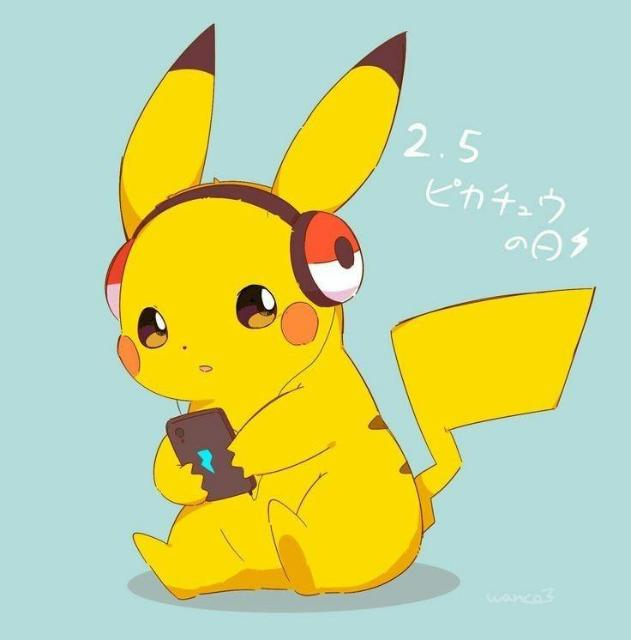pickachu: (119, 22, 600, 596)
